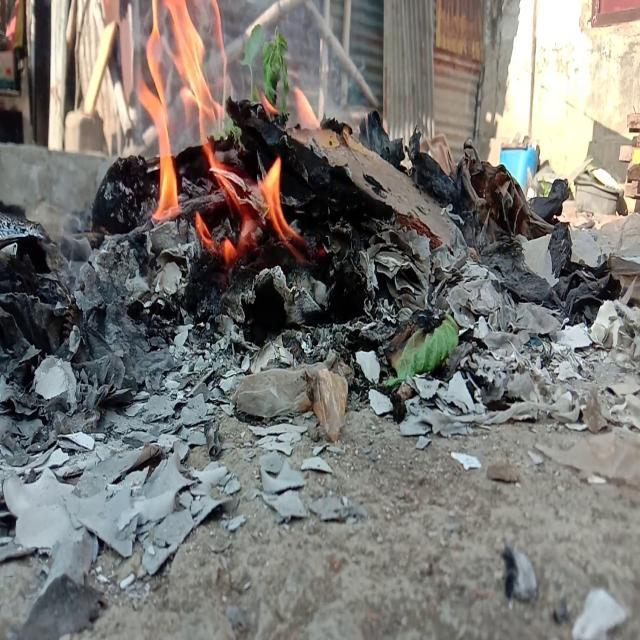Fire: (131, 0, 351, 266)
